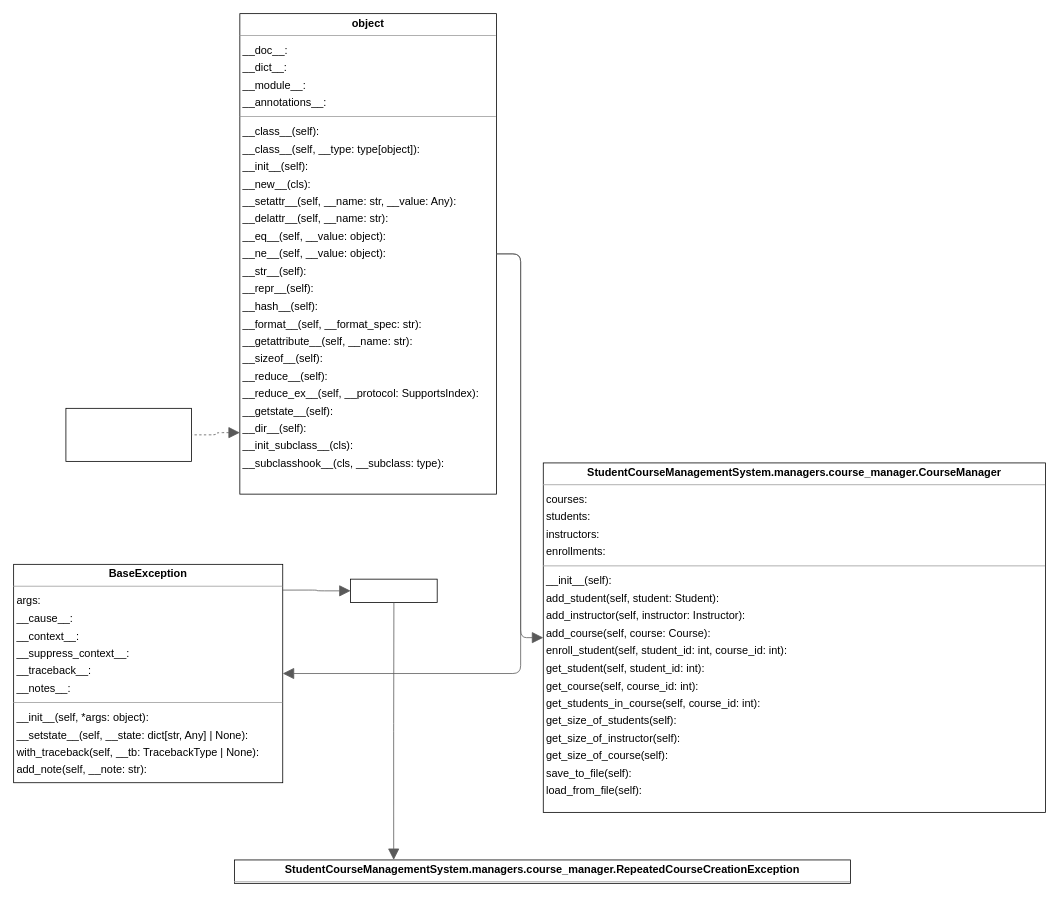
The diagram is 1059 pixels wide and 897 high, and some of its shapes have lost their labels. Here are the shapes that lost their labels. From the top down, the centre of each, then its label:
At point (128, 434): "typing.Hashable __hash__(self):".
At point (393, 590): "Exception".
